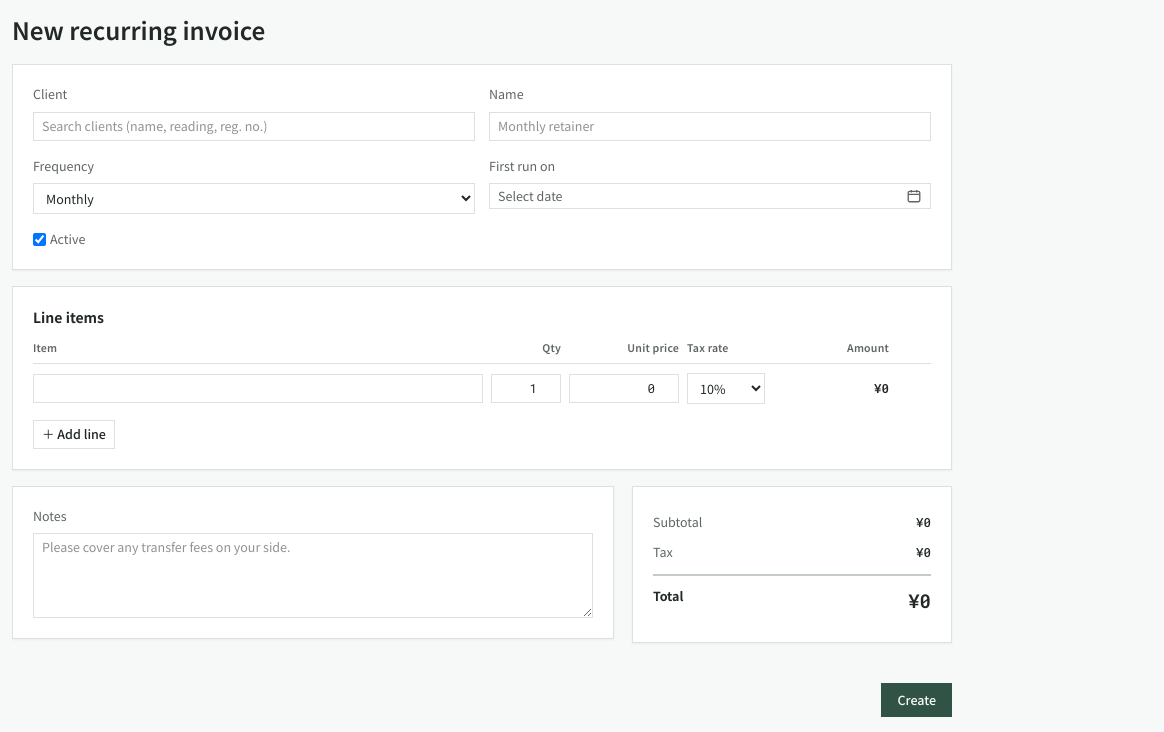
Test case: CreateRecurringInvoiceForm › shows a validation error when required fields are empty
This screenshot has width=1164, height=732.
Step 1. Click the button "Create" → (917, 700), box [882, 682, 952, 717]
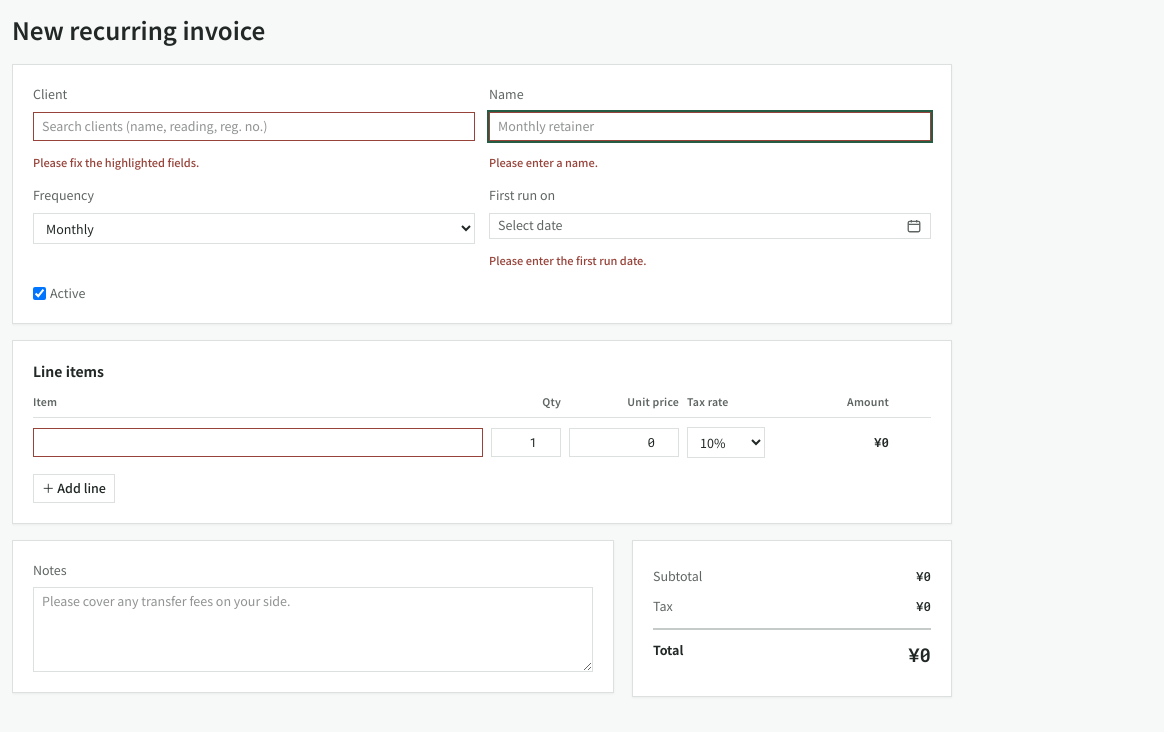
Expected: the text "Please enter a name." is shown, [489, 154, 598, 170]
